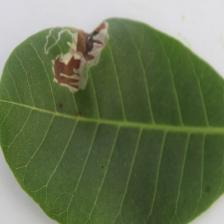leaf miner: (47, 20, 119, 100)
